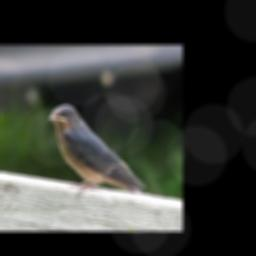Swallow: (47, 104, 146, 198)
